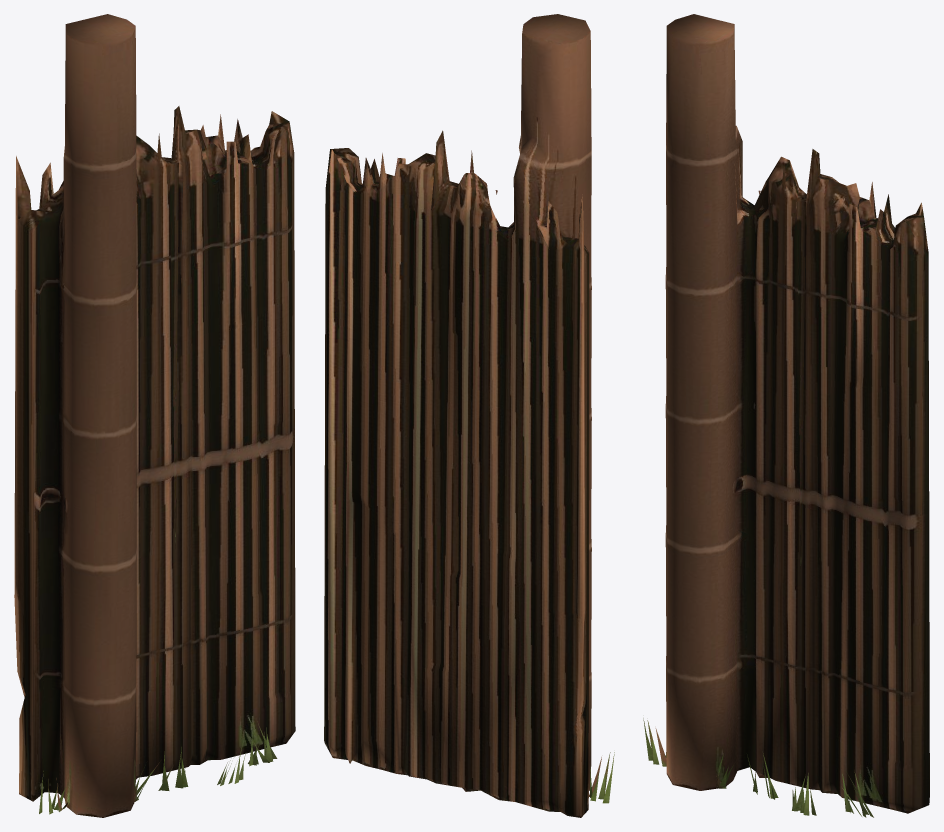
The model's file is fence_reed_end_w.glb.
3 renders of one model, left to right at view 1: azimuth 30°, elevation 25°; view 2: azimuth 150°, elevation 25°; view 3: azimuth 330°, elevation 25°, orthographic. The views are drawn at different scales.
Parts seen in each view (by area): view 1: fence_reed_end_w_lod0; view 2: fence_reed_end_w_lod0; view 3: fence_reed_end_w_lod0.
Boxes of the visible parts, x1,y1,x2,y2 form: fence_reed_end_w_lod0: (14, 14, 295, 817); fence_reed_end_w_lod0: (324, 14, 614, 817); fence_reed_end_w_lod0: (643, 14, 929, 817).
Size of the model in its own units: 0.6428 by 1.74 by 0.1983.
Materials: 1 (1 with a texture image).
